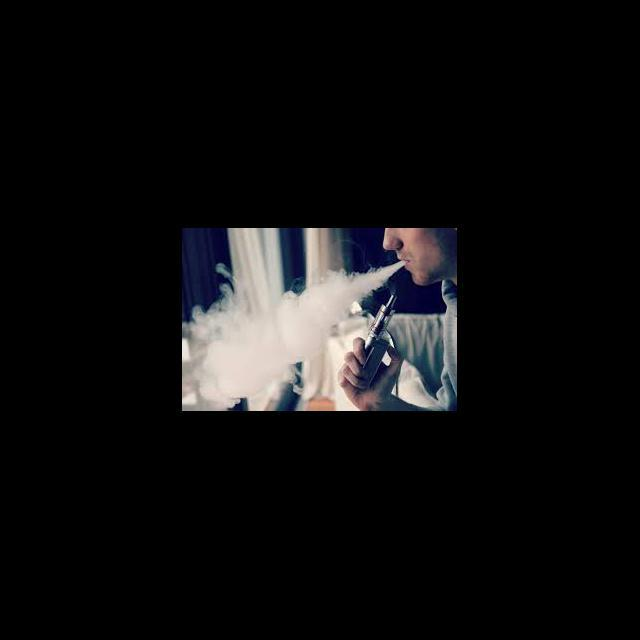Smoke: (208, 284, 328, 398), (333, 262, 393, 320), (350, 294, 352, 308)
